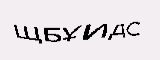Б: (45, 25, 63, 42)
Д: (110, 20, 128, 39)
И: (83, 19, 106, 41)
С: (126, 17, 143, 39)
Щ: (11, 20, 43, 44)
Ұ: (61, 24, 79, 42)
